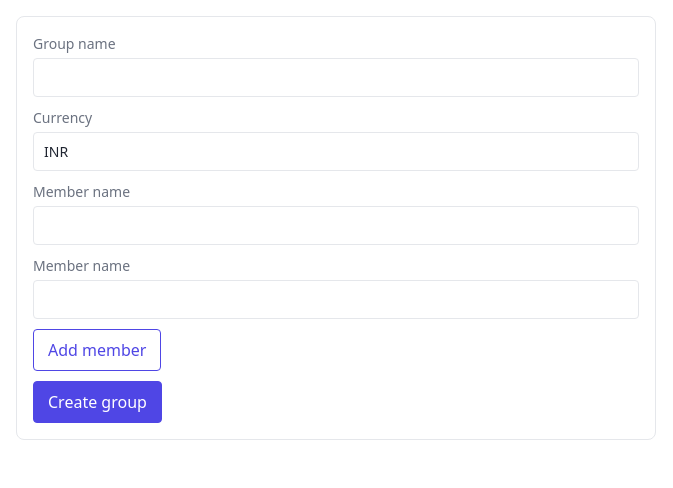
Test case: CreateGroupForm › shows the server's error message when the request fails
The image size is (673, 488).
Type "Goa trip" into the field labelled "Group name" at x=336, y=78, box [33, 58, 639, 97]
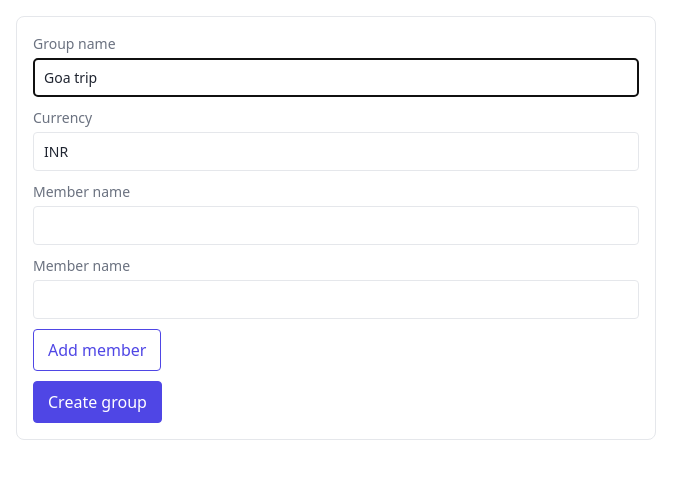
Type "Alice" into the 1st field labelled "Member name" at x=336, y=226, box [33, 206, 639, 245]
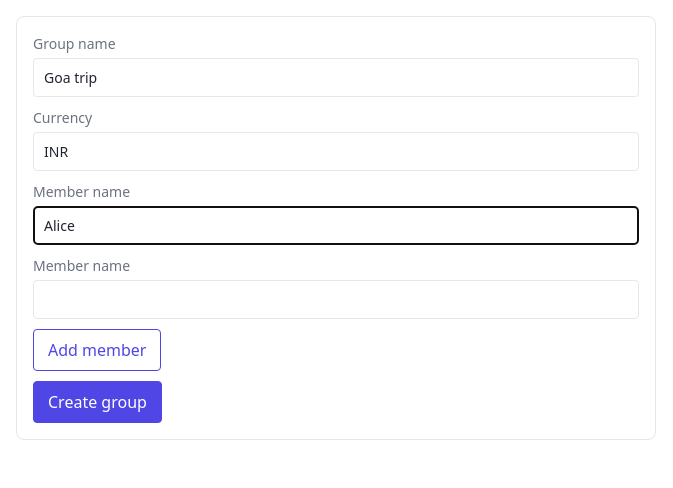
Type "Bob" into the 2nd field labelled "Member name" at x=336, y=300, box [33, 280, 639, 319]
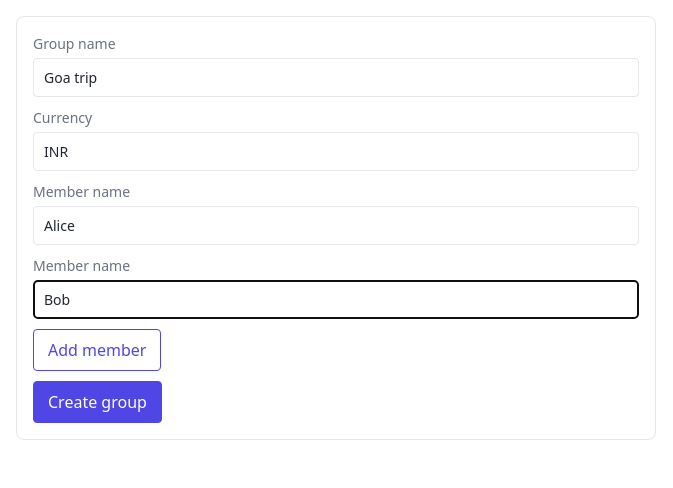
Click the button "Create group" at x=97, y=402, box [33, 381, 162, 423]
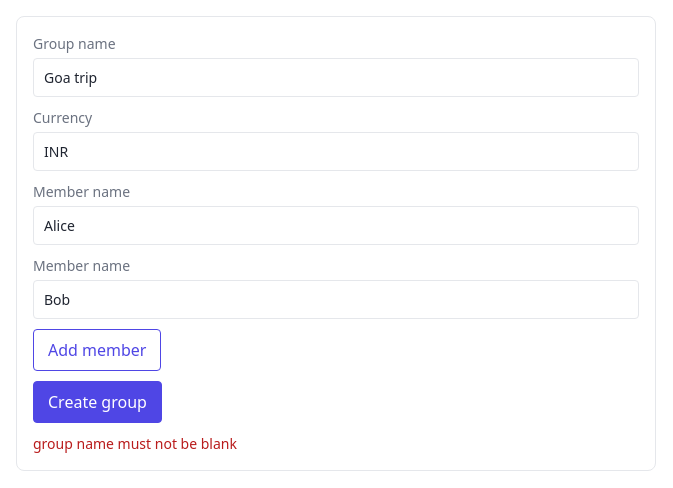
Now the text "group name must not be blank" is shown, box [33, 434, 237, 453]
